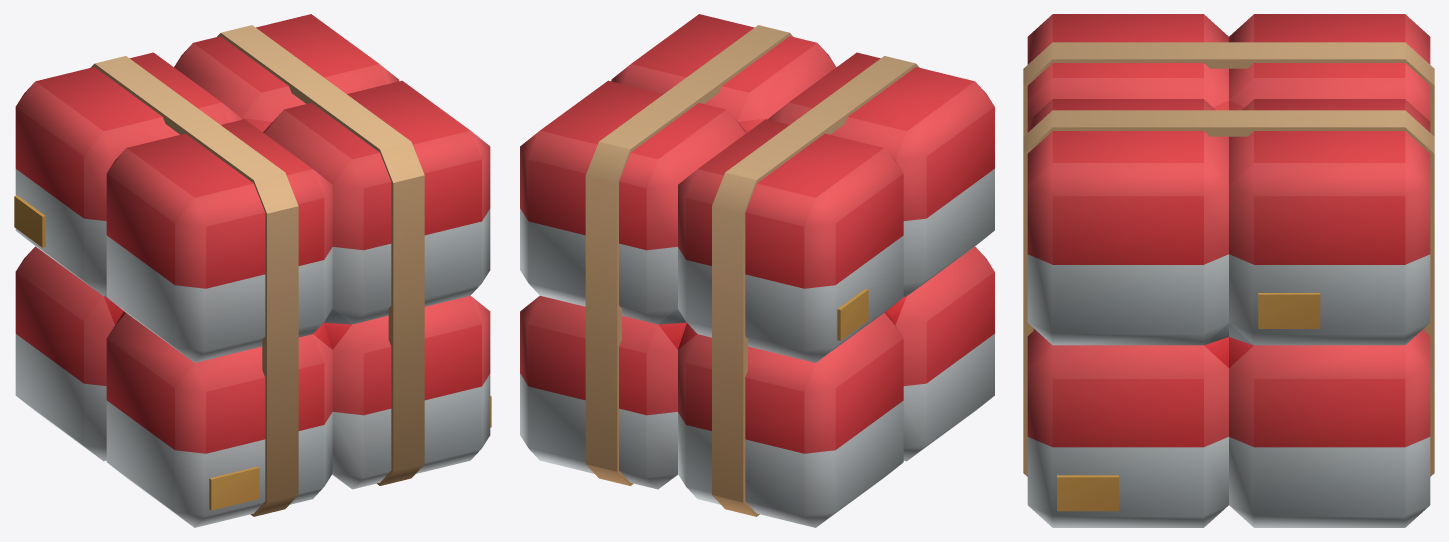
The model's file is kay-carga.gltf.
The picture shows the model from 3 angles, left to right: view 1: azimuth 30°, elevation 25°; view 2: azimuth 150°, elevation 25°; view 3: azimuth 270°, elevation 25°; orthographic projection. The views are drawn at different scales.
Parts seen in each view (by area): view 1: cargo_A_stacked; view 2: cargo_A_stacked; view 3: cargo_A_stacked.
Boxes of the visible parts, x1,y1,x2,y2 form: cargo_A_stacked: [14, 14, 491, 527]; cargo_A_stacked: [520, 14, 994, 527]; cargo_A_stacked: [1023, 14, 1434, 527].
Bounding box in the file's own units: 2.65 × 2.65 × 2.65.
Materials: 1 (1 with a texture image).
